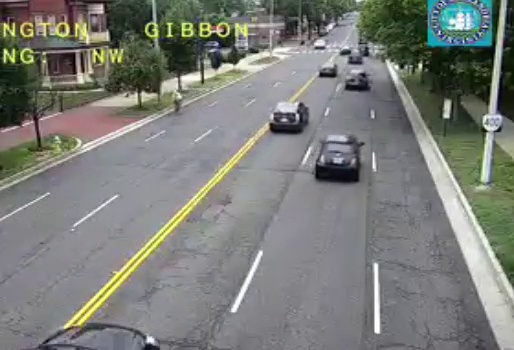car: (315, 134, 359, 173), (270, 102, 308, 128), (345, 69, 368, 88), (318, 63, 337, 77)
